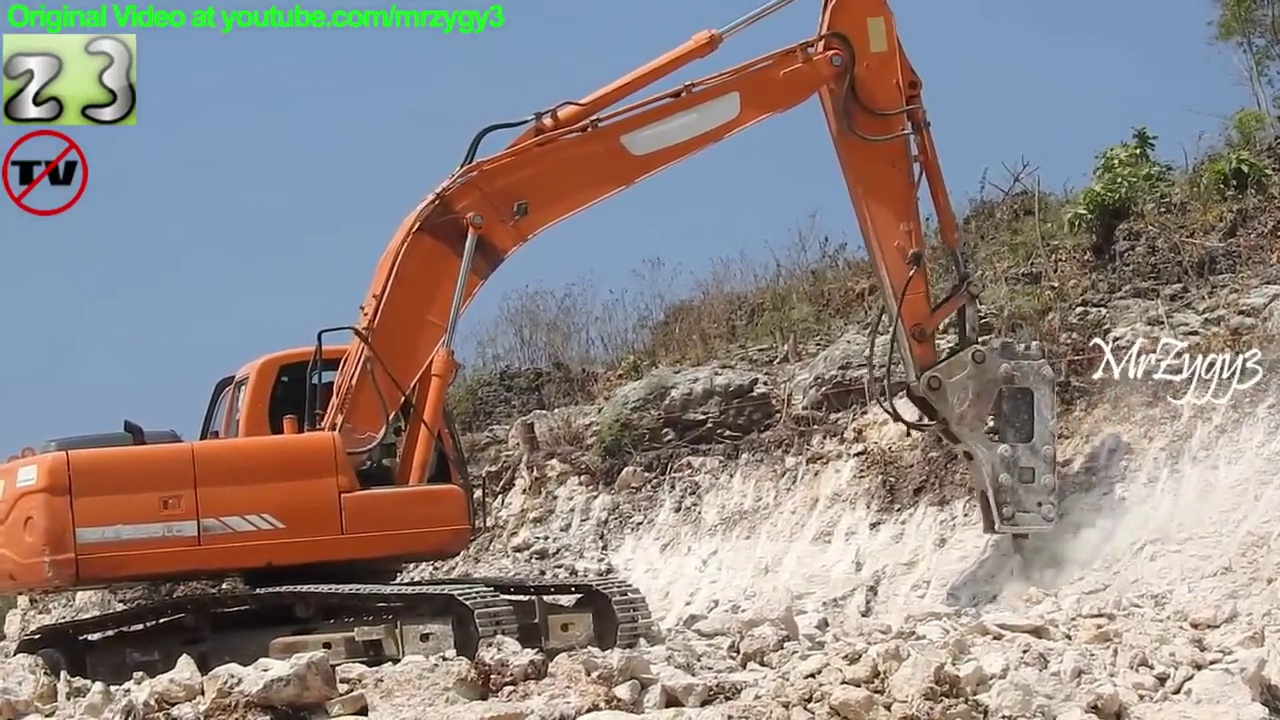excavator breaker: (1, 1, 1068, 712)
